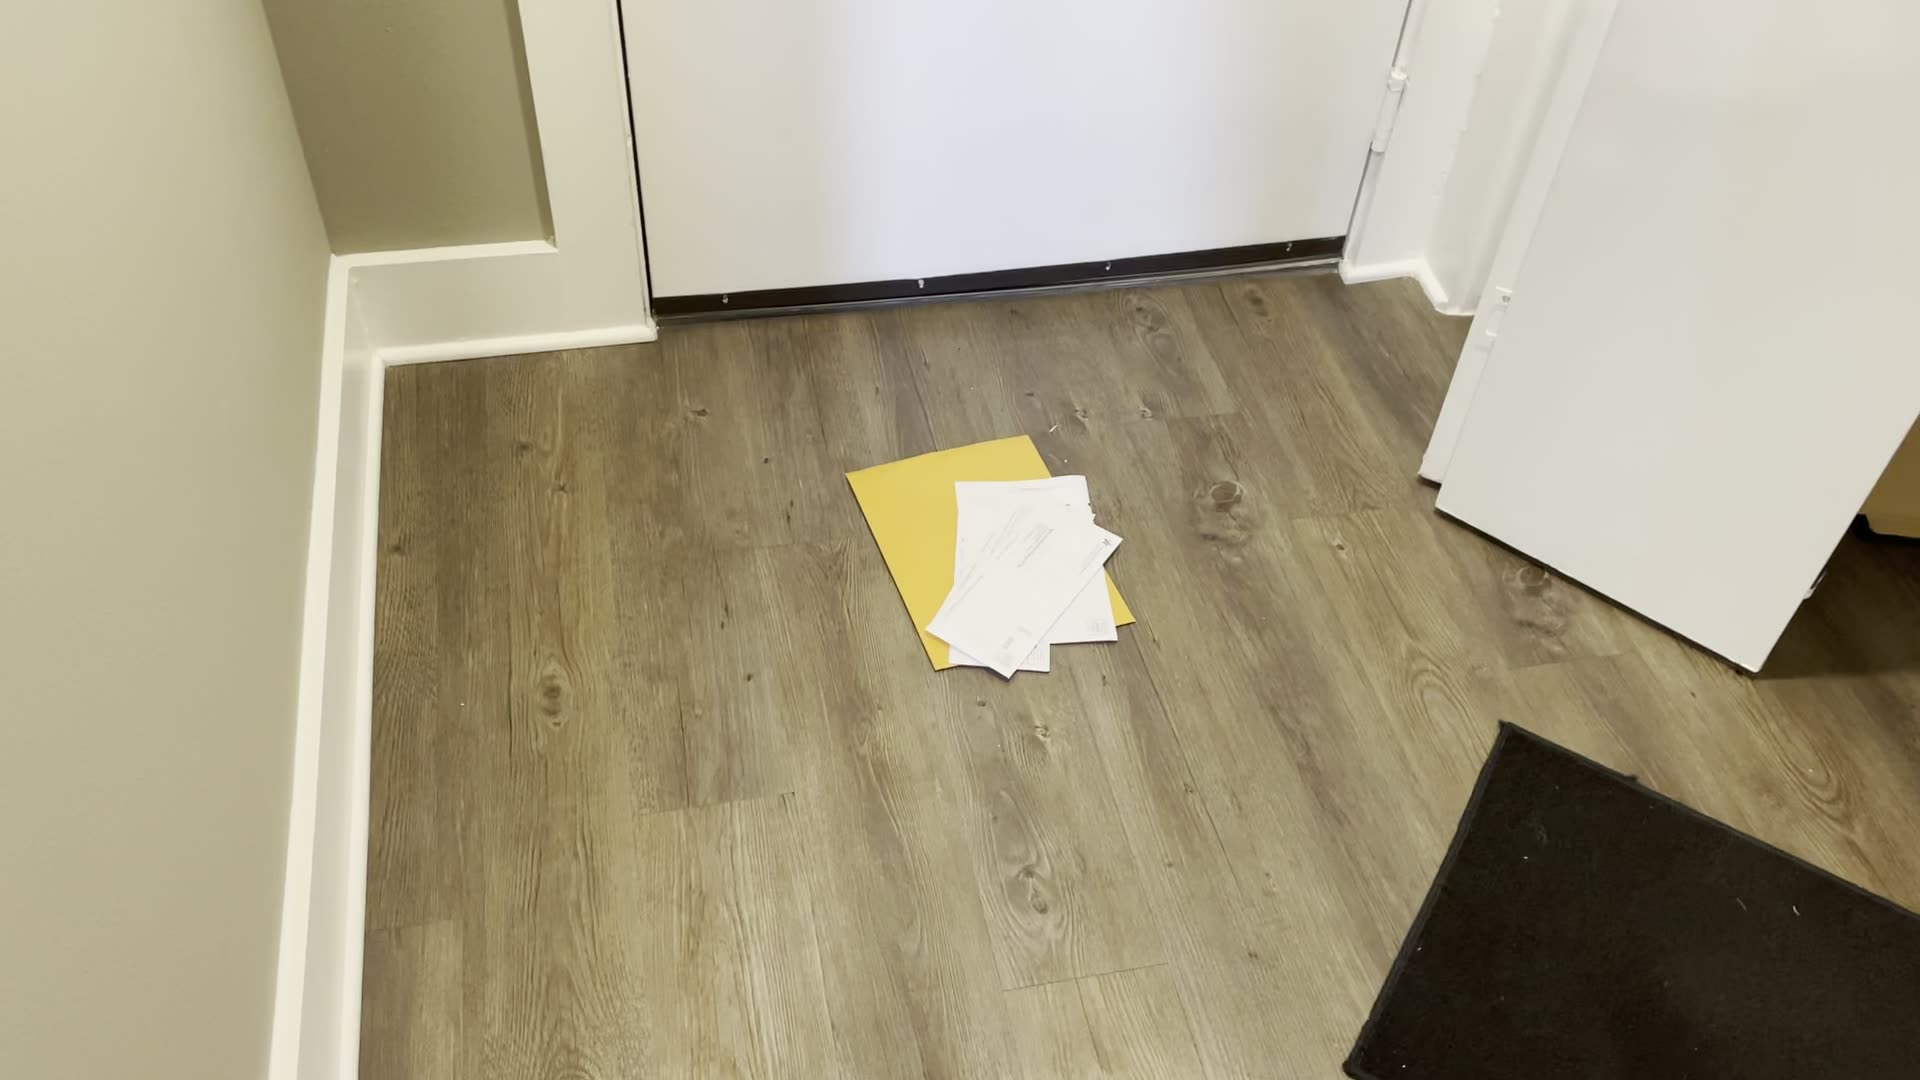envelope: (829, 414, 1153, 676), (953, 468, 1116, 649)
